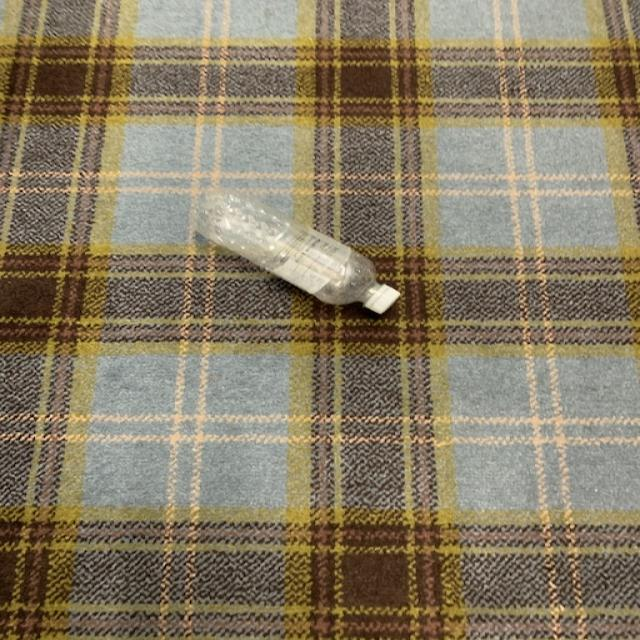Waste: (191, 190, 401, 313)
